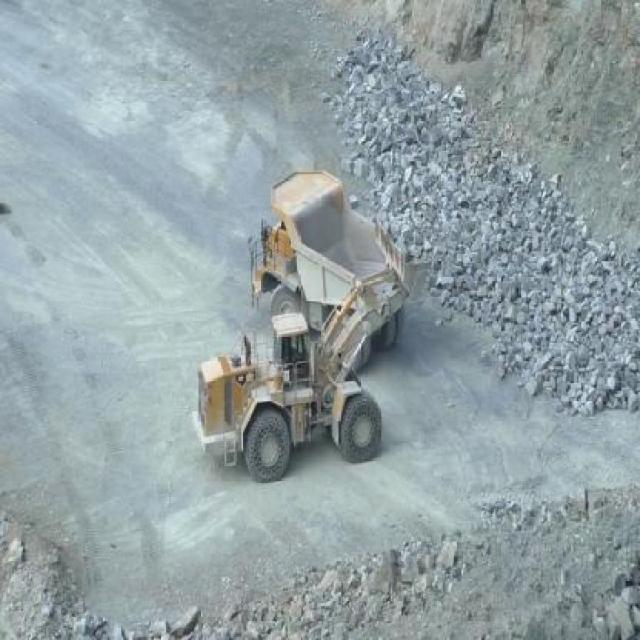Dump Truck: (248, 169, 404, 320)
Loader: (188, 267, 409, 487)
